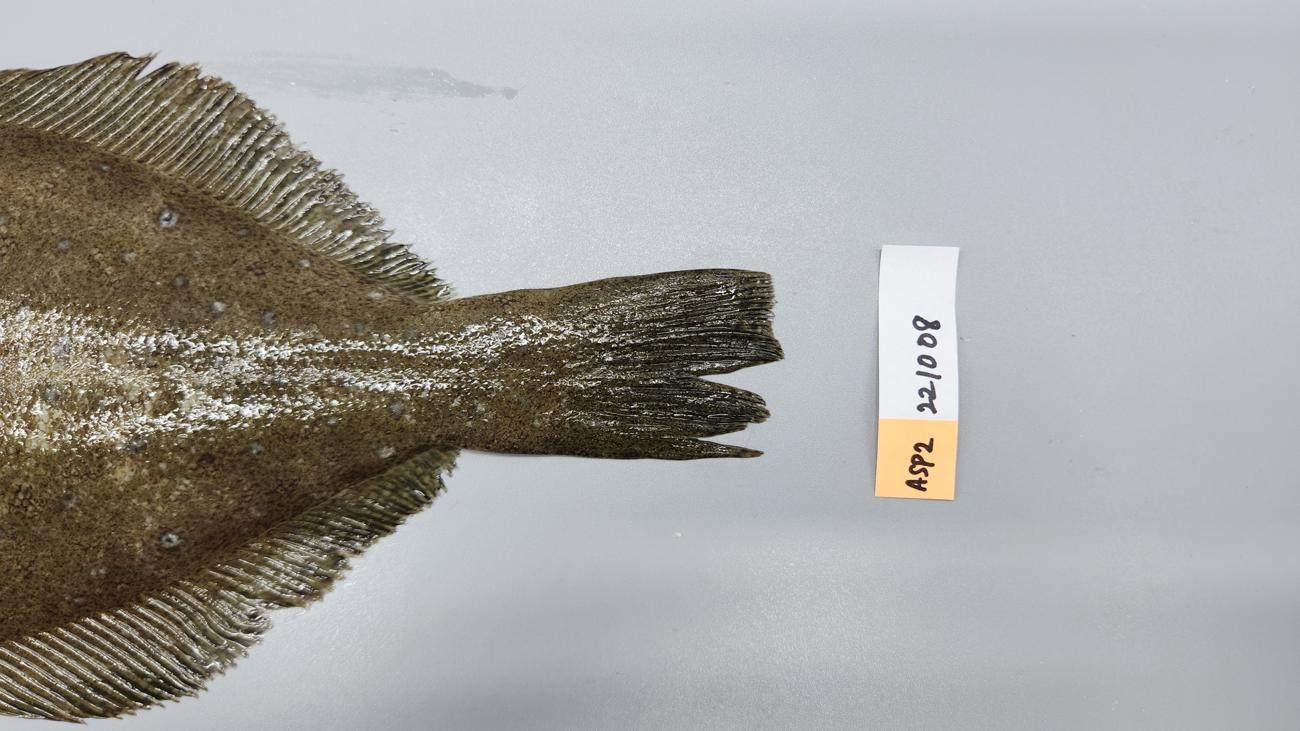SPDYH: (0, 394, 558, 646)
